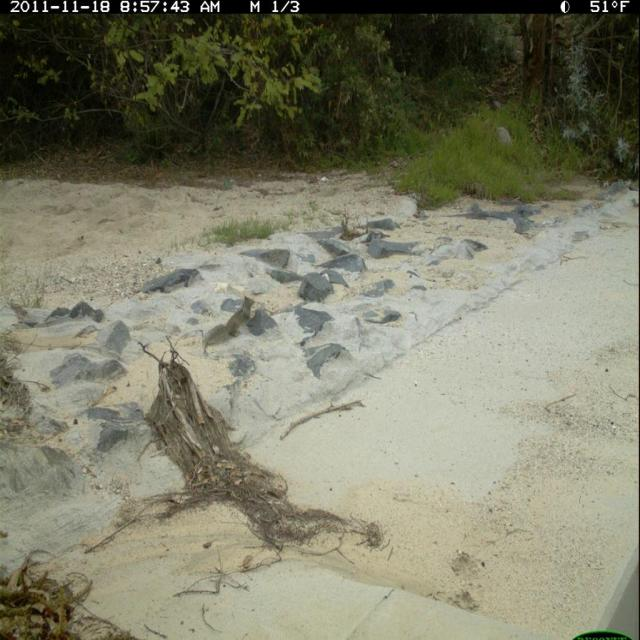squirrel: (196, 291, 264, 361)
